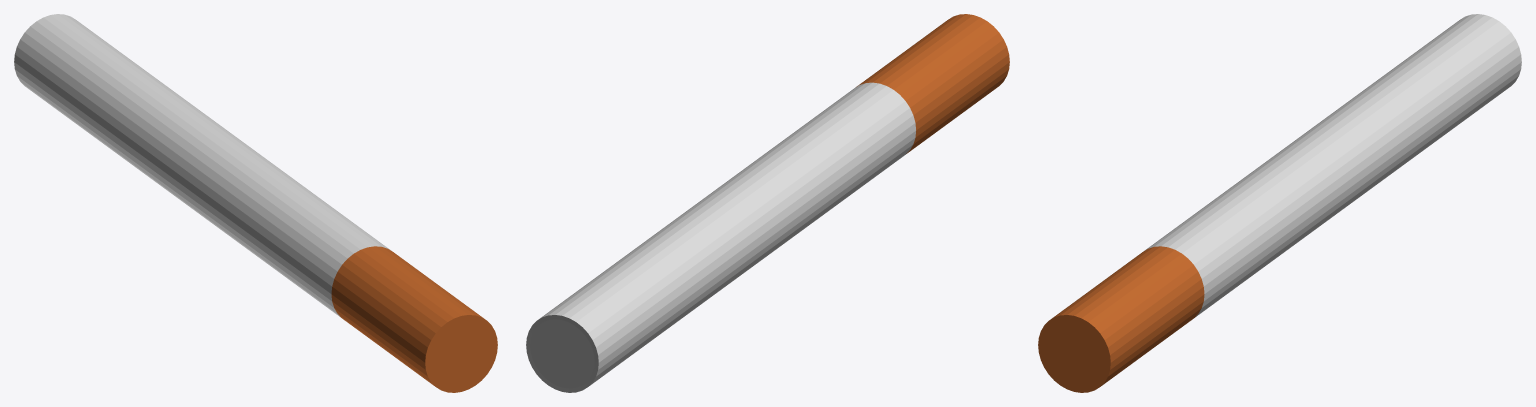
The model's file is Cigarro.fbx.
3 renders of one model, left to right at view 1: azimuth 30°, elevation 25°; view 2: azimuth 150°, elevation 25°; view 3: azimuth 330°, elevation 25°, orthographic.
Visible parts, largest first — view 1: Cigarro; view 2: Cigarro; view 3: Cigarro.
Part boxes in pixels (left/top/right/bottom): Cigarro: left=14, top=14, right=497, bottom=392; Cigarro: left=526, top=14, right=1009, bottom=392; Cigarro: left=1038, top=14, right=1521, bottom=392.
Size of the model in its own units: 85.02 by 85.02 by 833.
